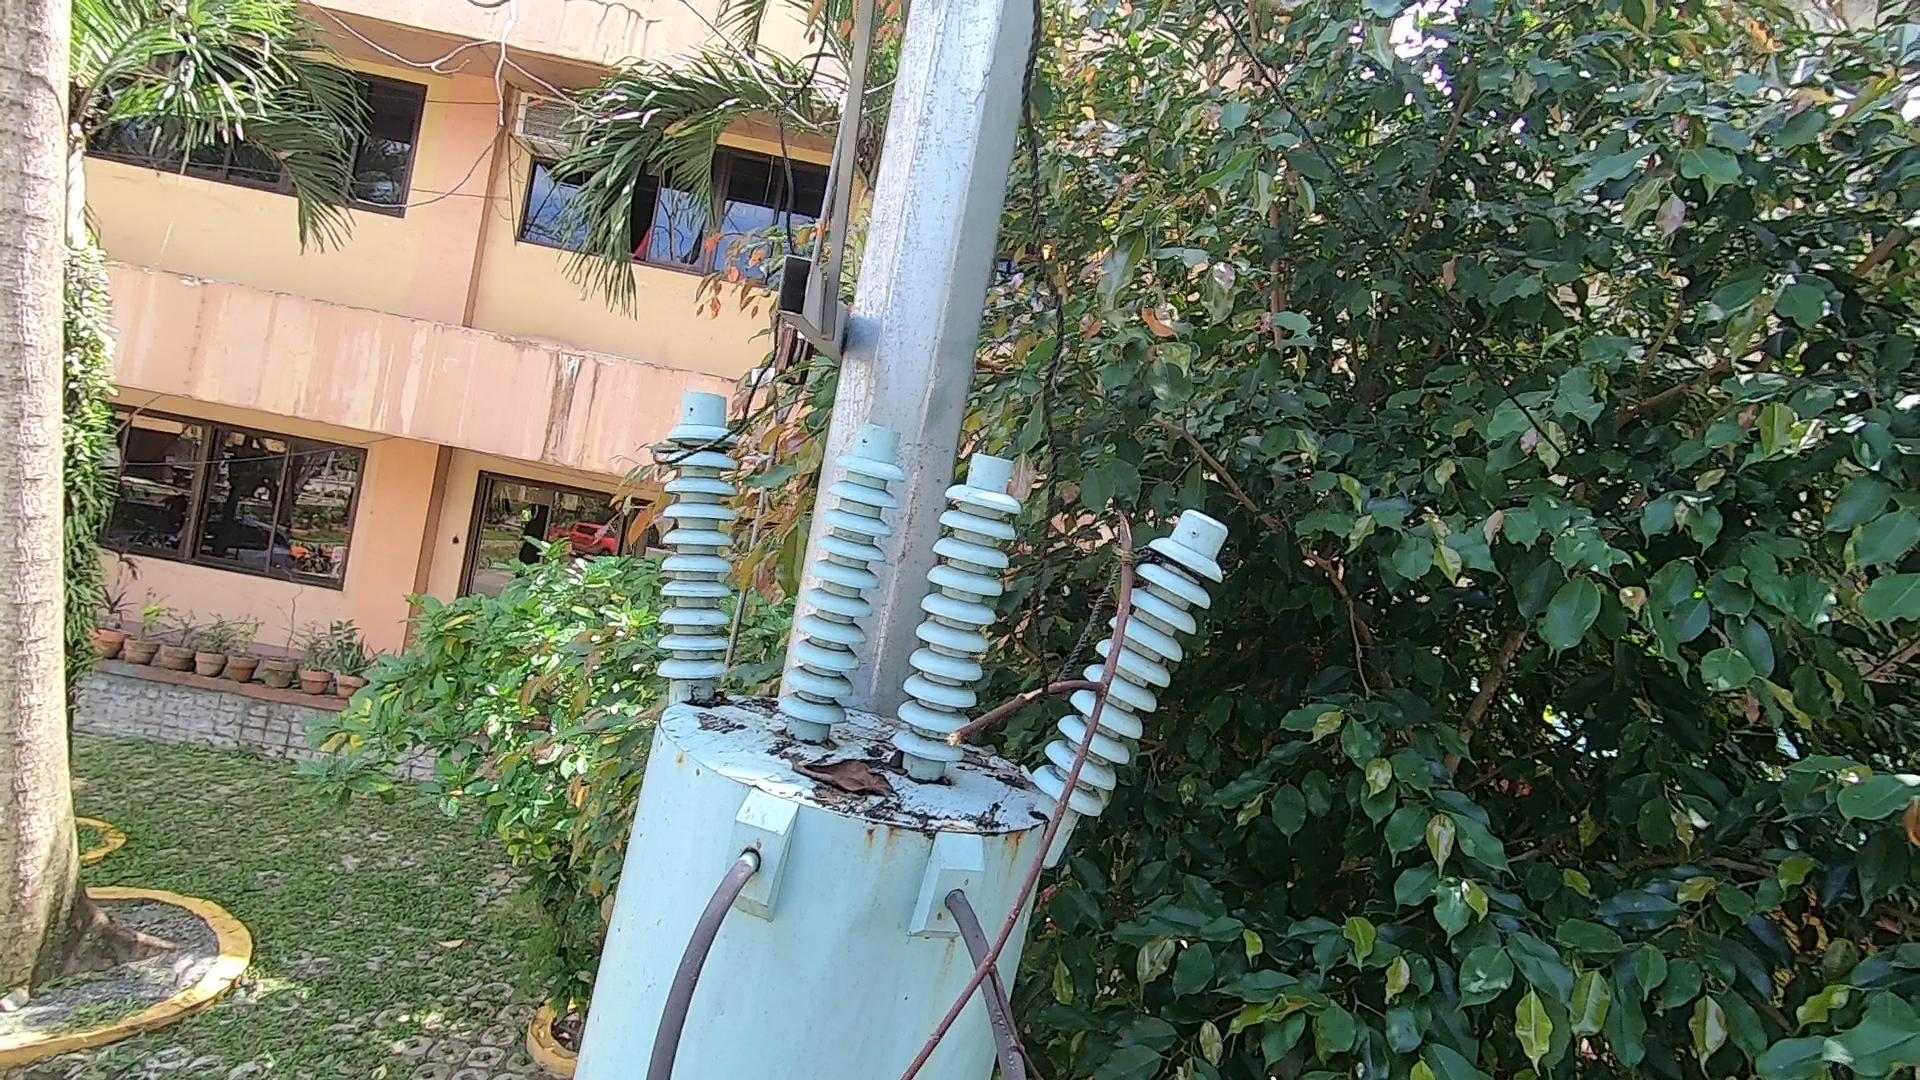leaf: (796, 735, 916, 808)
tree branch: (902, 498, 1174, 1080)
